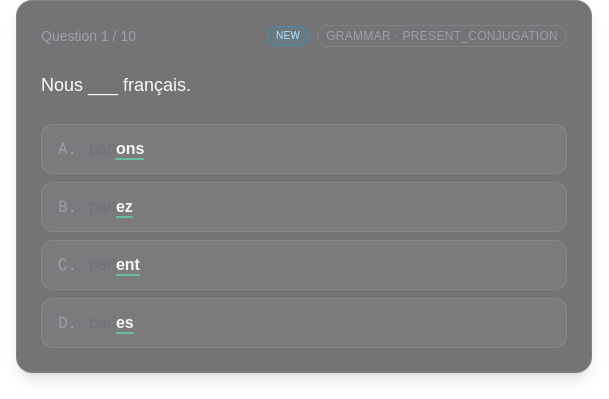
QuestionCard › on a correct pick, submits immediately and shows the explanation
Click the button "A.parlons" at point(63, 149), box [41, 124, 567, 174]
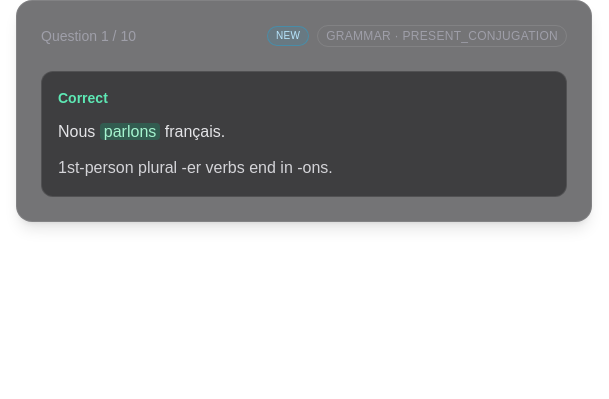
Check: the text "Correct" is shown, box [58, 88, 108, 108]
